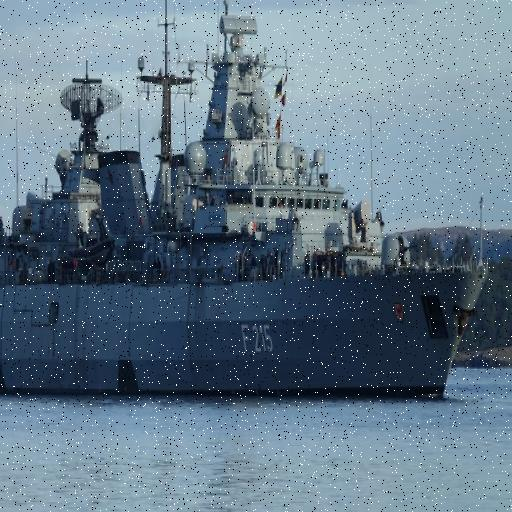Fragata: (1, 15, 490, 408)
